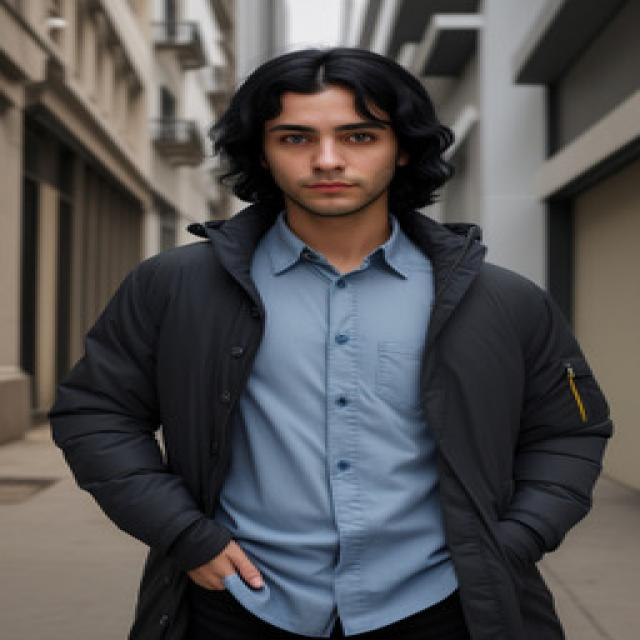Ai human 2: (48, 33, 614, 640)
